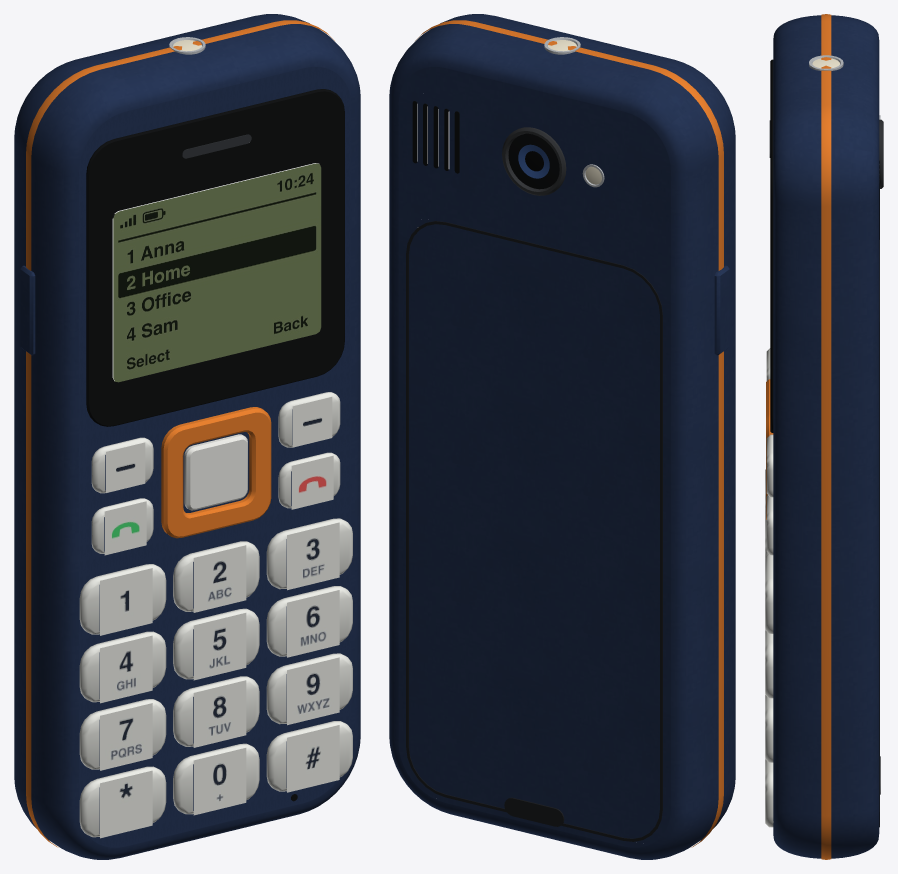
File: button-phone.glb
3 views of the same model, side by side, from view 1: azimuth 30°, elevation 25°; view 2: azimuth 150°, elevation 25°; view 3: azimuth 270°, elevation 25° (orthographic). The views are drawn at different scales.
Visible parts, largest first — view 1: Button_Phone; view 2: Button_Phone; view 3: Button_Phone.
Part boxes in pixels (box(x1,y1,x2,y2)): Button_Phone: box(14, 14, 360, 859); Button_Phone: box(389, 14, 735, 859); Button_Phone: box(765, 14, 883, 859).
Bounding box in the file's own units: 0.0489 × 0.1139 × 0.0164.
16 materials, 3 textured.
